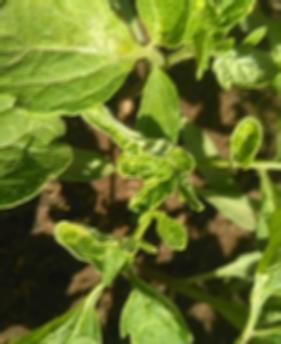Tomato leaf mosaic virus: (0, 0, 137, 116), (80, 105, 203, 214), (40, 215, 158, 273), (118, 68, 189, 162), (117, 267, 190, 344), (211, 42, 279, 93), (130, 0, 194, 52), (220, 111, 270, 172), (203, 0, 263, 33)
